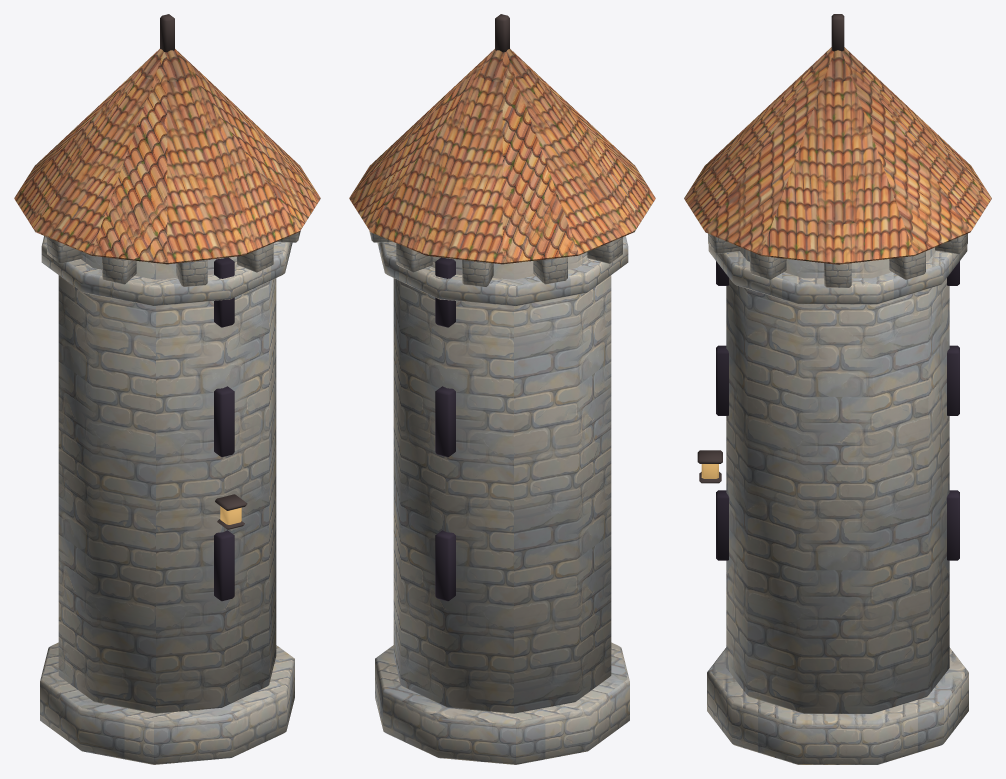
The model's file is guard_tower.gltf.
3 renders of one model, left to right at view 1: azimuth 30°, elevation 25°; view 2: azimuth 150°, elevation 25°; view 3: azimuth 270°, elevation 25°, orthographic.
Parts seen in each view (by area): view 1: guard_tower; view 2: guard_tower; view 3: guard_tower.
Part boxes in pixels (left/top/right/bottom): guard_tower: left=14, top=14, right=320, bottom=764; guard_tower: left=349, top=14, right=655, bottom=764; guard_tower: left=684, top=14, right=991, bottom=764.
Size of the model in its own units: 3.86 by 9.65 by 3.86.
Materials: 4 (4 with a texture image).
